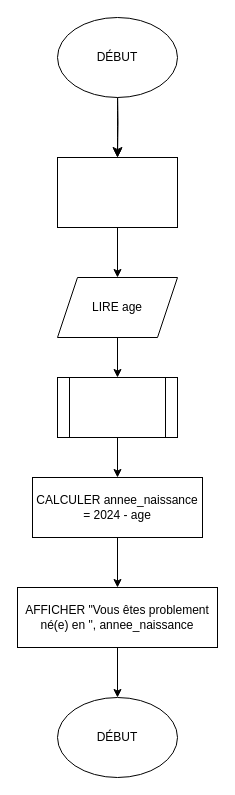
Some shapes in this 235 by 795 pixel diagram are drawn without their labels. The shapes that lost their labels are listed below. From the top down, each one's centre as x and y in pixels, then its label:
point 117,192: AFFICHER "Entrez votre âge : "
point 117,407: convertir age en entier
